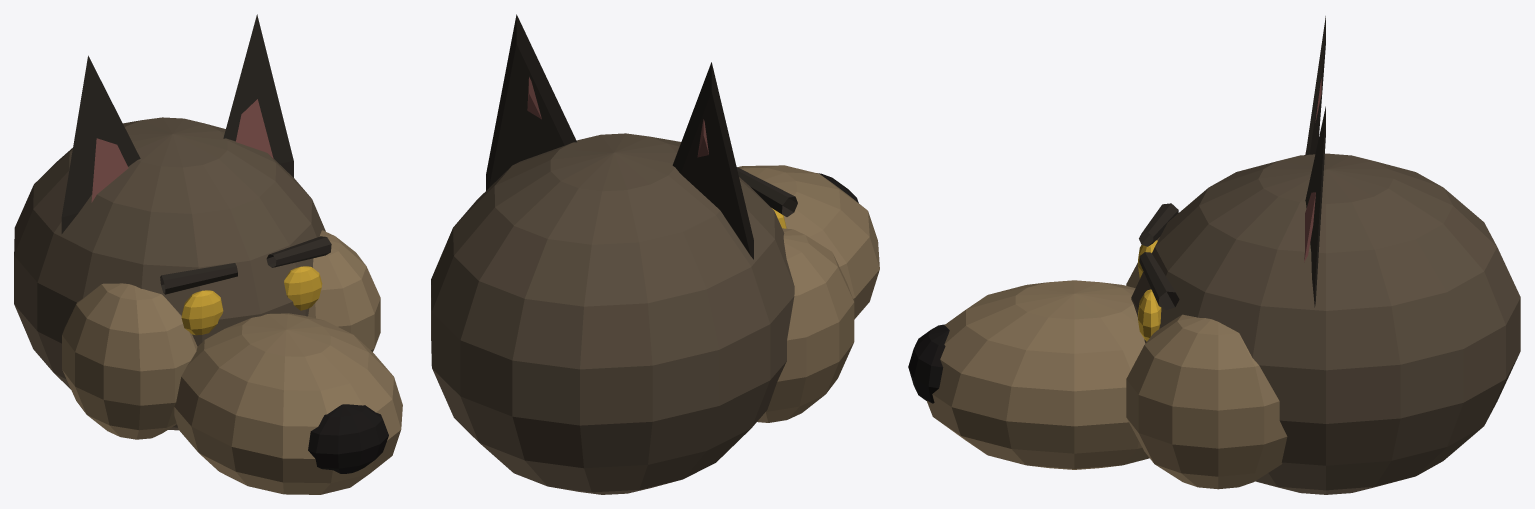
Rendered from MagicForestCanine.obj.
3 renders of one model, left to right at view 1: azimuth 30°, elevation 25°; view 2: azimuth 150°, elevation 25°; view 3: azimuth 270°, elevation 25°, orthographic. The views are drawn at different scales.
Visible parts, largest first — view 1: Skull, Muzzle, CheekL, CheekR, EarL, Nose, EarR, EyeL, BrowL, EarInnerL, EyeR, EarInnerR (+1 smaller); view 2: Skull, CheekL, Muzzle, EarR, EarL, BrowL; view 3: Skull, Muzzle, CheekR, Nose, EarR, BrowR, EarL, EyeR, BrowL.
Part boxes in pixels (bbox=[...]): Skull: bbox=[14, 117, 325, 430]; Muzzle: bbox=[174, 313, 402, 494]; CheekL: bbox=[62, 283, 197, 439]; CheekR: bbox=[308, 230, 380, 351]; EarL: bbox=[61, 55, 140, 233]; Nose: bbox=[308, 404, 388, 473]; EarR: bbox=[223, 14, 293, 177]; EyeL: bbox=[181, 290, 223, 335]; BrowL: bbox=[160, 263, 237, 294]; EarInnerL: bbox=[91, 138, 128, 202]; EyeR: bbox=[284, 266, 322, 310]; EarInnerR: bbox=[235, 99, 273, 158]; Skull: bbox=[431, 133, 794, 494]; CheekL: bbox=[757, 228, 854, 422]; Muzzle: bbox=[738, 165, 879, 319]; EarR: bbox=[486, 14, 576, 190]; EarL: bbox=[672, 62, 753, 259]; BrowL: bbox=[736, 167, 797, 216]; Skull: bbox=[1131, 153, 1520, 494]; Muzzle: bbox=[927, 280, 1149, 469]; CheekR: bbox=[1126, 314, 1287, 489]; Nose: bbox=[908, 324, 949, 403]; EarR: bbox=[1305, 106, 1325, 307]; BrowR: bbox=[1139, 252, 1179, 310]; EarL: bbox=[1305, 16, 1325, 155]; EyeR: bbox=[1138, 289, 1161, 341]; BrowL: bbox=[1139, 203, 1178, 246].
Size of the model in its own units: 1.68 by 2.08 by 2.75.
